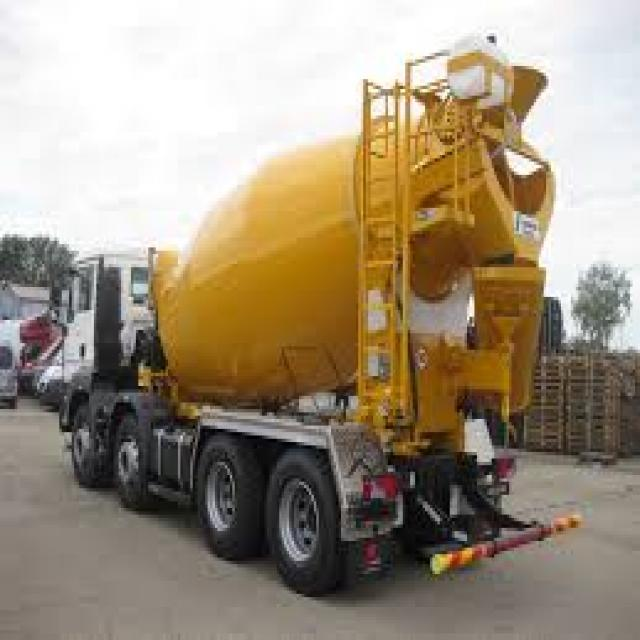Mixer Truck: (48, 30, 586, 601)
